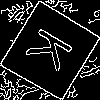K: (25, 25, 83, 79)
